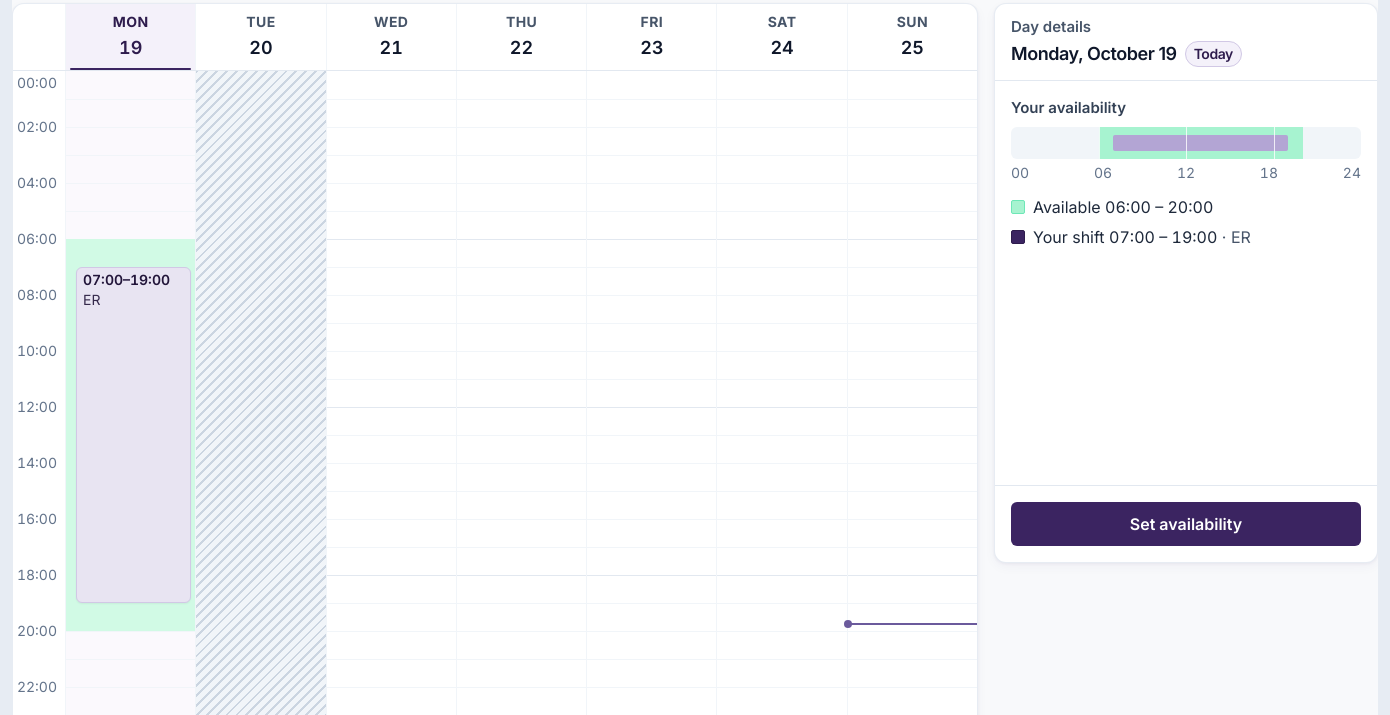
Scenario: AvailabilityEditor › says clearly that saving replaces days whose availability differs, and makes you choose
Click the button "Set availability" at (1186, 524), box [1011,502,1361,546]
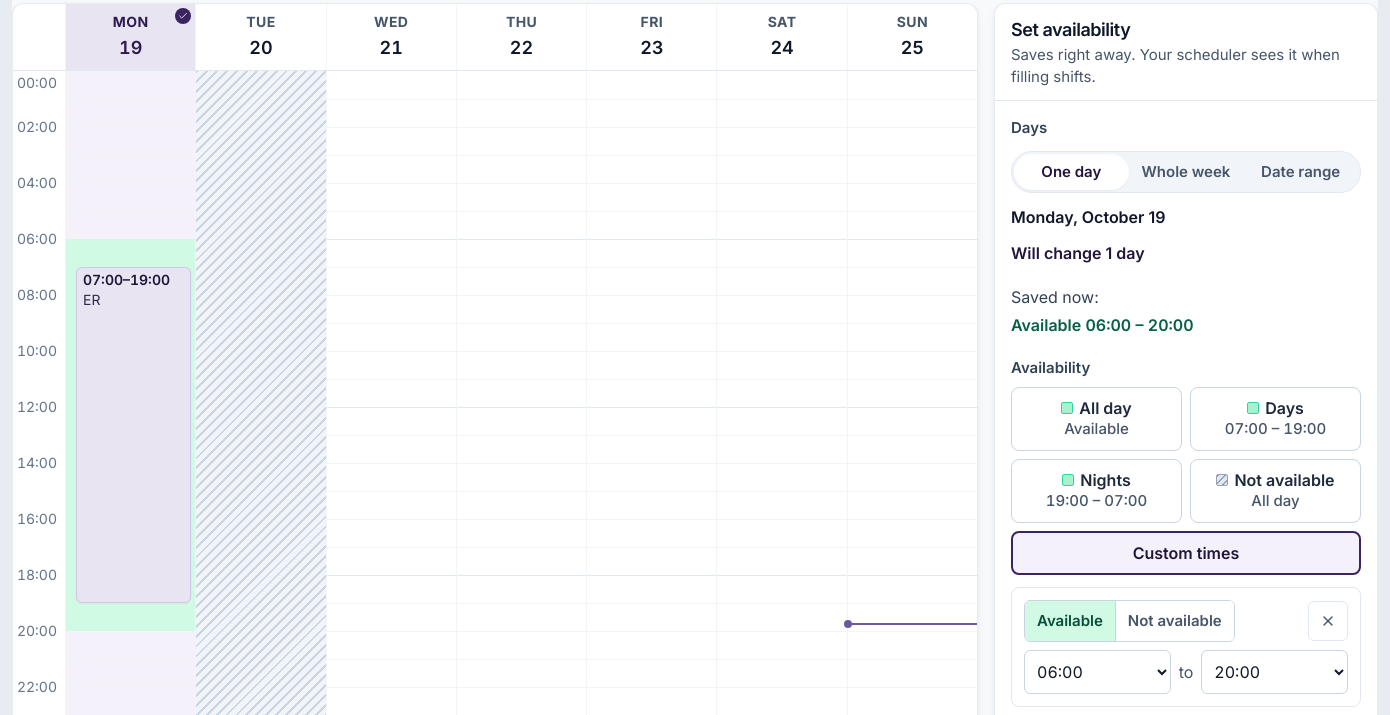
Click the radio button labelled "Whole week" at (1186, 172), box [1129,154,1243,190]
(page scrolled)
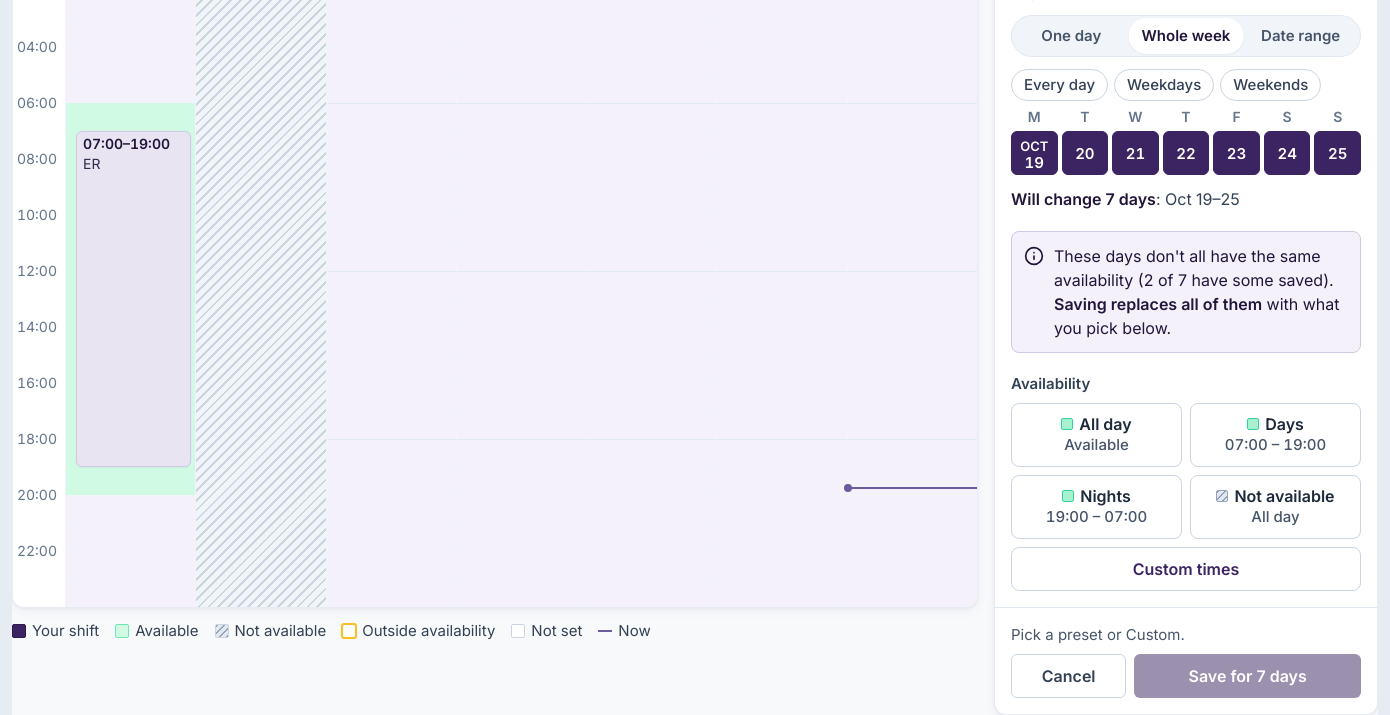
Now the text "Saving replaces all of them" is shown, box [1054,294,1262,314]
Now the button "Save for 7 days" is disabled, box [1134,654,1361,698]
Now the text "Pick a preset or Custom." is shown, box [1011,625,1185,644]
